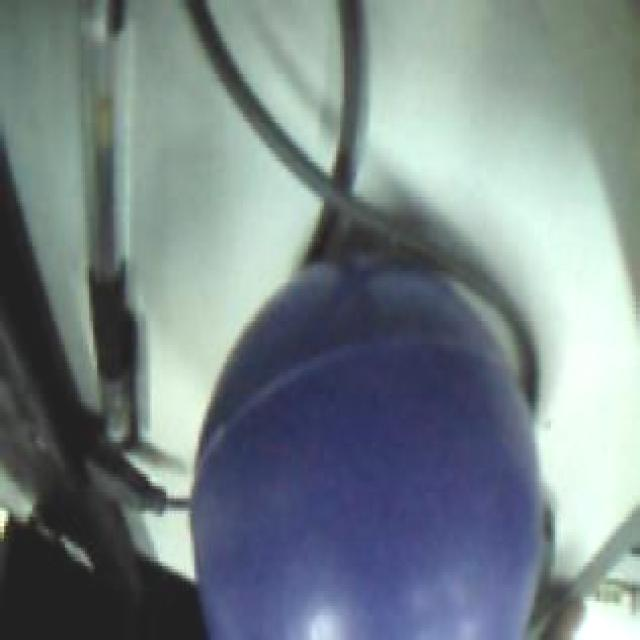BallPurple: (191, 264, 542, 640)
